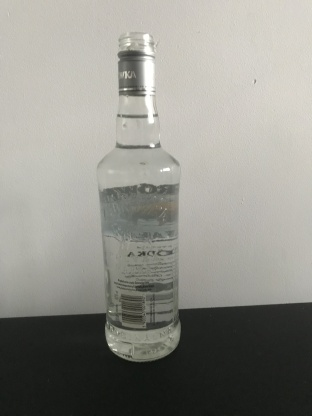nakretka: (115, 31, 157, 96)
